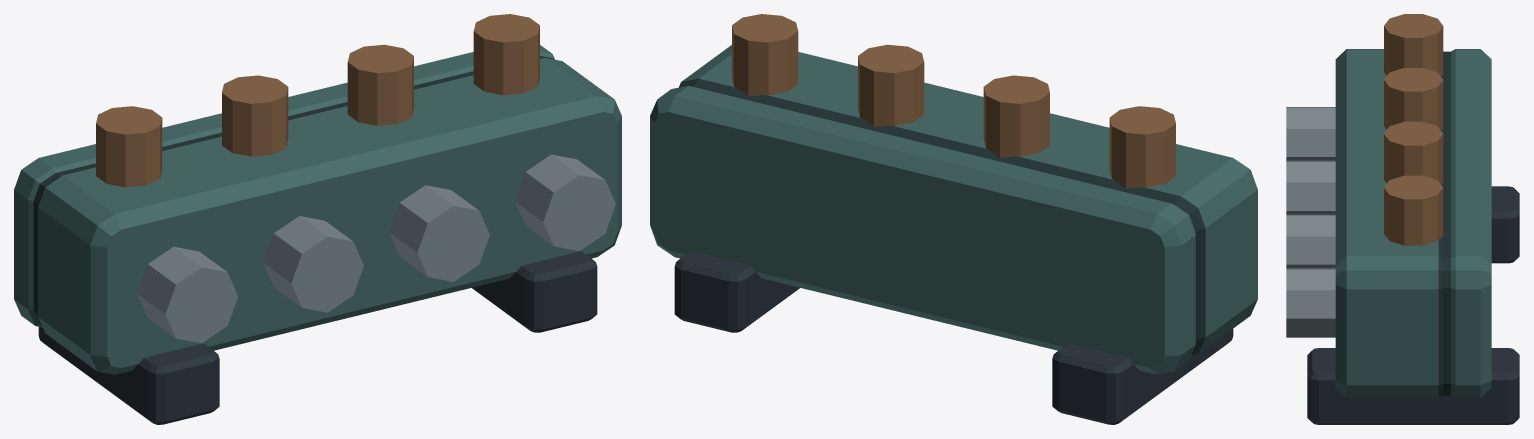
File: F-16_hydraulic_block.glb
The picture shows the model from 3 angles, left to right: view 1: azimuth 30°, elevation 25°; view 2: azimuth 150°, elevation 25°; view 3: azimuth 270°, elevation 25°; orthographic projection. The views are drawn at different scales.
Parts seen in each view (by area): view 1: F-16_hydraulic_block; view 2: F-16_hydraulic_block; view 3: F-16_hydraulic_block.
Boxes of the visible parts, x1=… form: F-16_hydraulic_block: x1=14, y1=14, x2=621, y2=424; F-16_hydraulic_block: x1=650, y1=14, x2=1257, y2=424; F-16_hydraulic_block: x1=1286, y1=14, x2=1519, y2=424.
Size of the model in its own units: 0.76 by 0.35 by 0.33.
